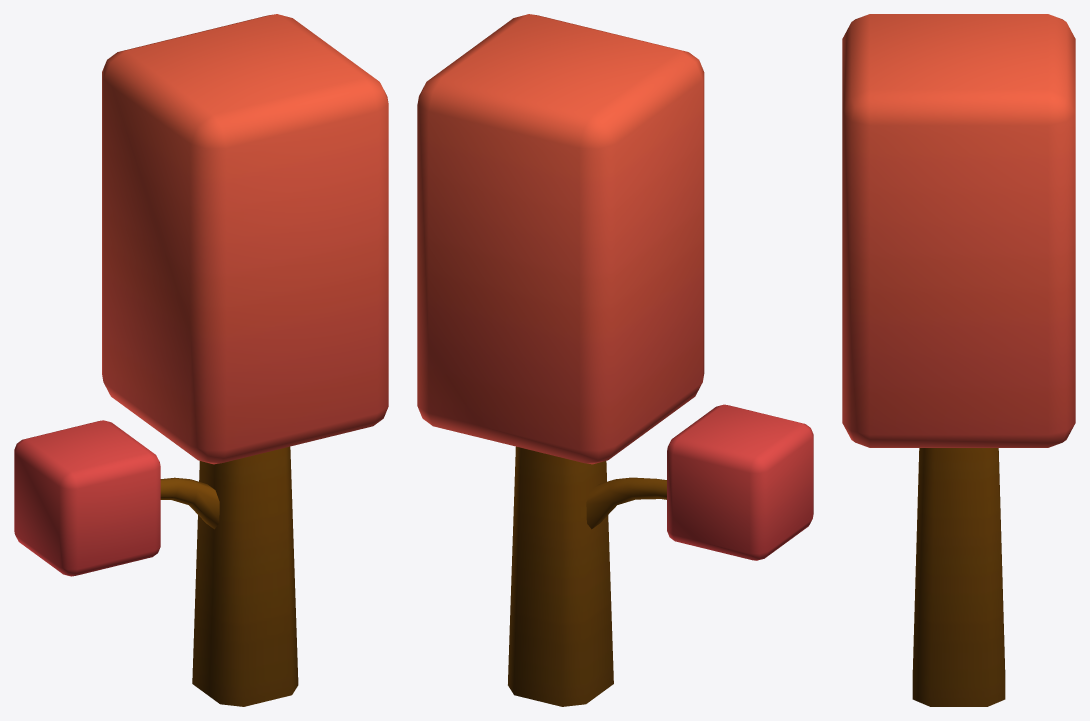
The model's file is Tree_E_4_.fbx.
3 renders of one model, left to right at view 1: azimuth 30°, elevation 25°; view 2: azimuth 150°, elevation 25°; view 3: azimuth 270°, elevation 25°, orthographic. The views are drawn at different scales.
Visible parts, largest first — view 1: Tree_E_4; view 2: Tree_E_4; view 3: Tree_E_4.
Part boxes in pixels (bbox=[...]): Tree_E_4: bbox=[14, 14, 388, 706]; Tree_E_4: bbox=[417, 14, 813, 706]; Tree_E_4: bbox=[842, 14, 1075, 706].
Size of the model in its own units: 236 by 441 by 146.
